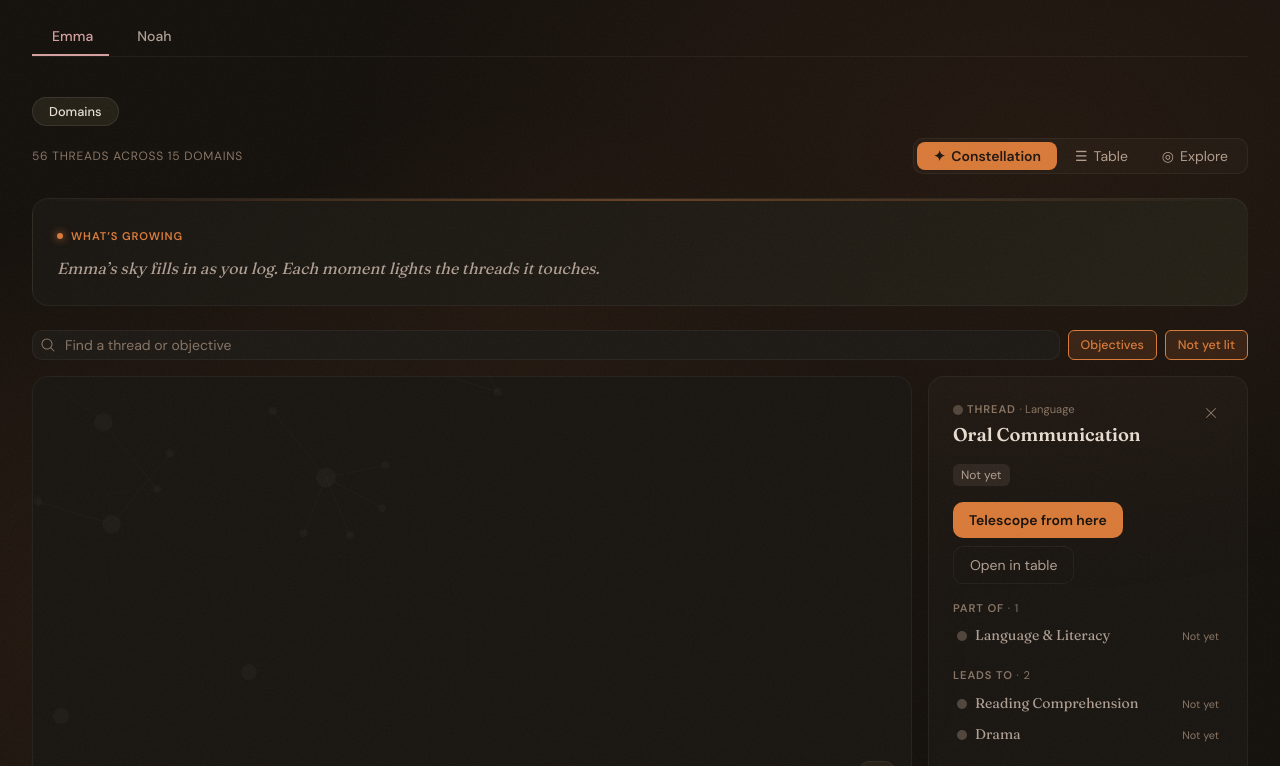
Scenario: ConstellationRoute › deep links and viewport › telescoping from the constellation panel drills to the node and syncs the URL
Earlier steps of the test are not shown.
(page scrolled)
Click the button "Telescope from here" at (1038, 520), box [953, 502, 1123, 538]
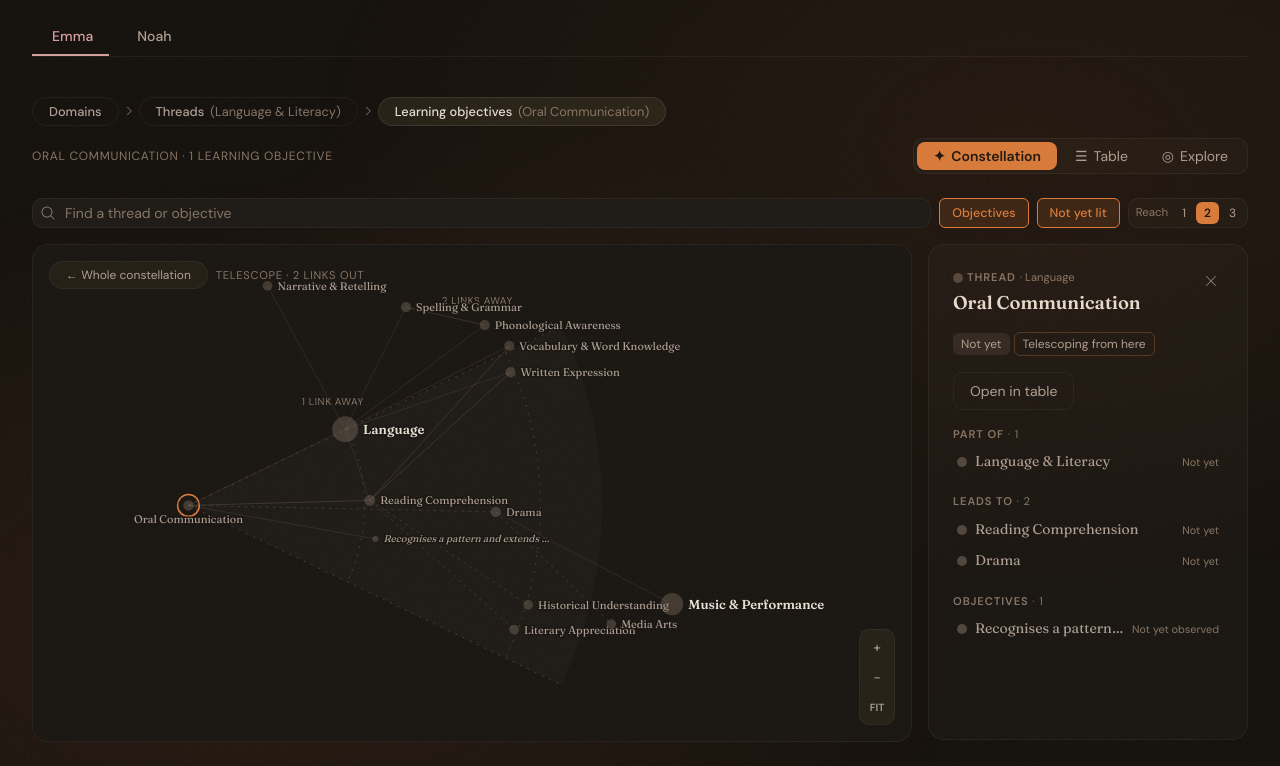
expect the navigation bar named "Depth navigation" shows "Learning objectives": met, box [378, 97, 666, 126]
Click the button "← Whole constellation" at (128, 276), box [49, 262, 208, 290]
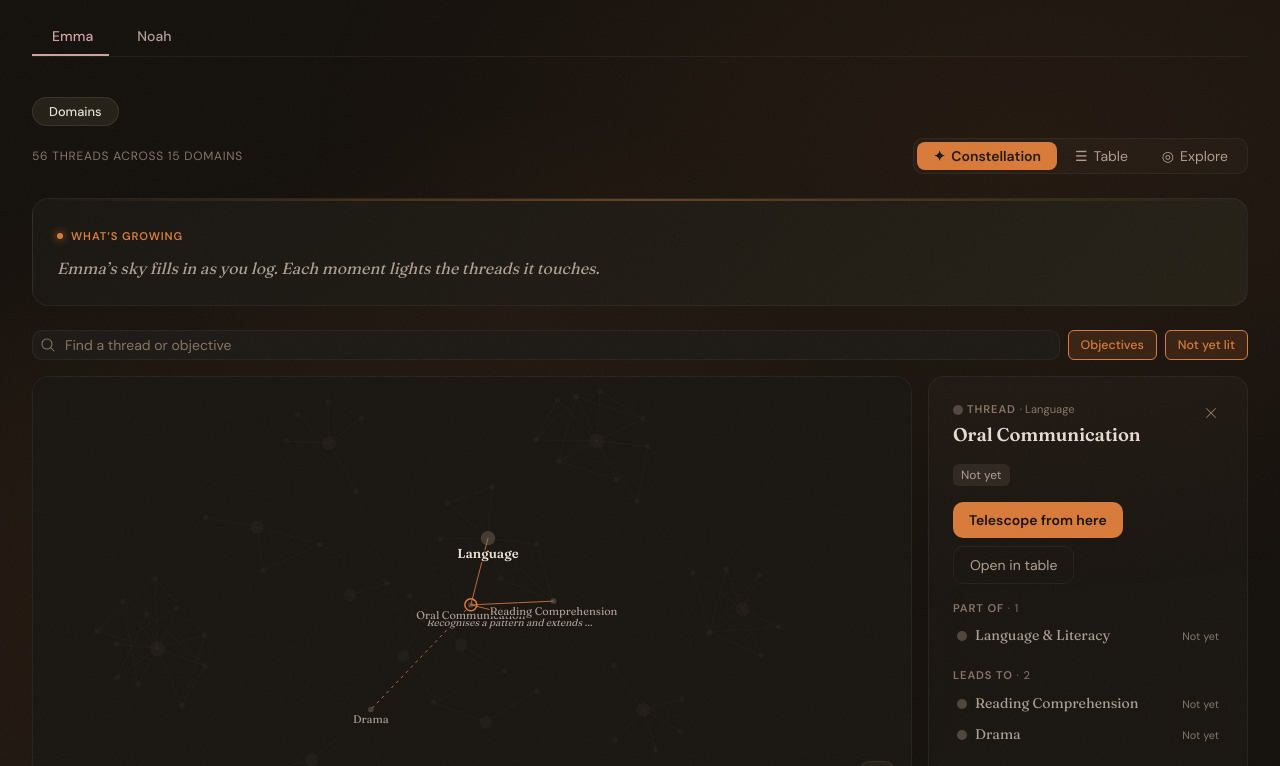
expect the button "Learning objectives" is gone: met
